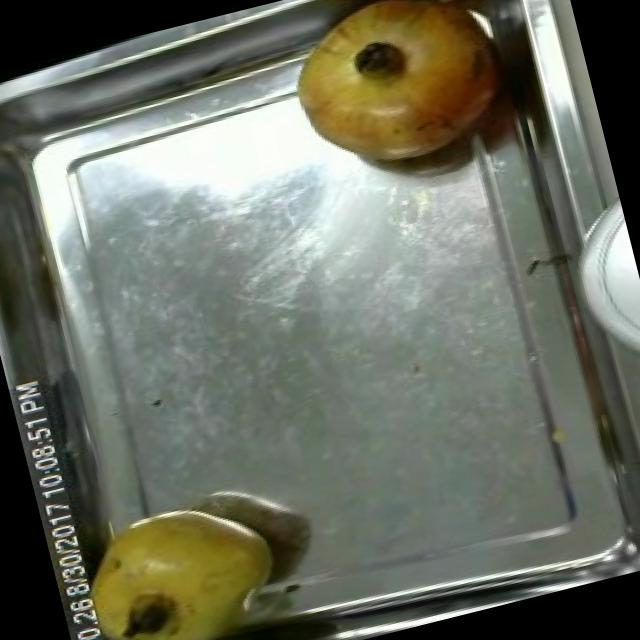fruit: (258, 0, 530, 195), (47, 474, 301, 640)
